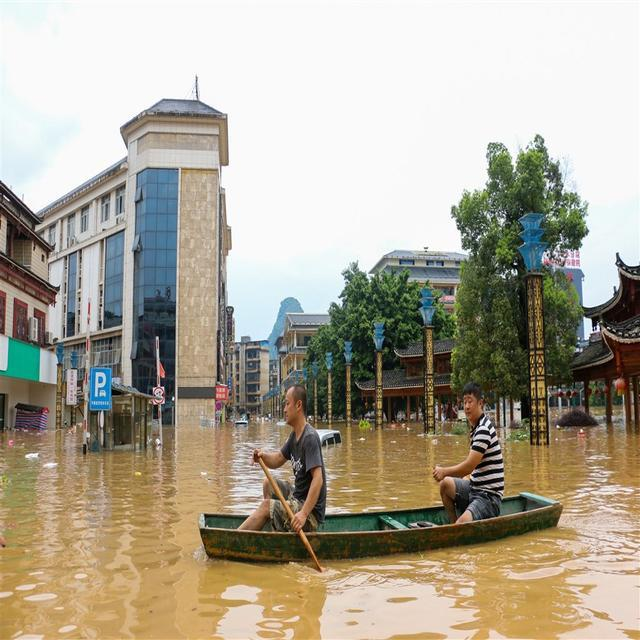Person-RiskLevel3: (233, 370, 332, 552), (432, 373, 519, 532)
